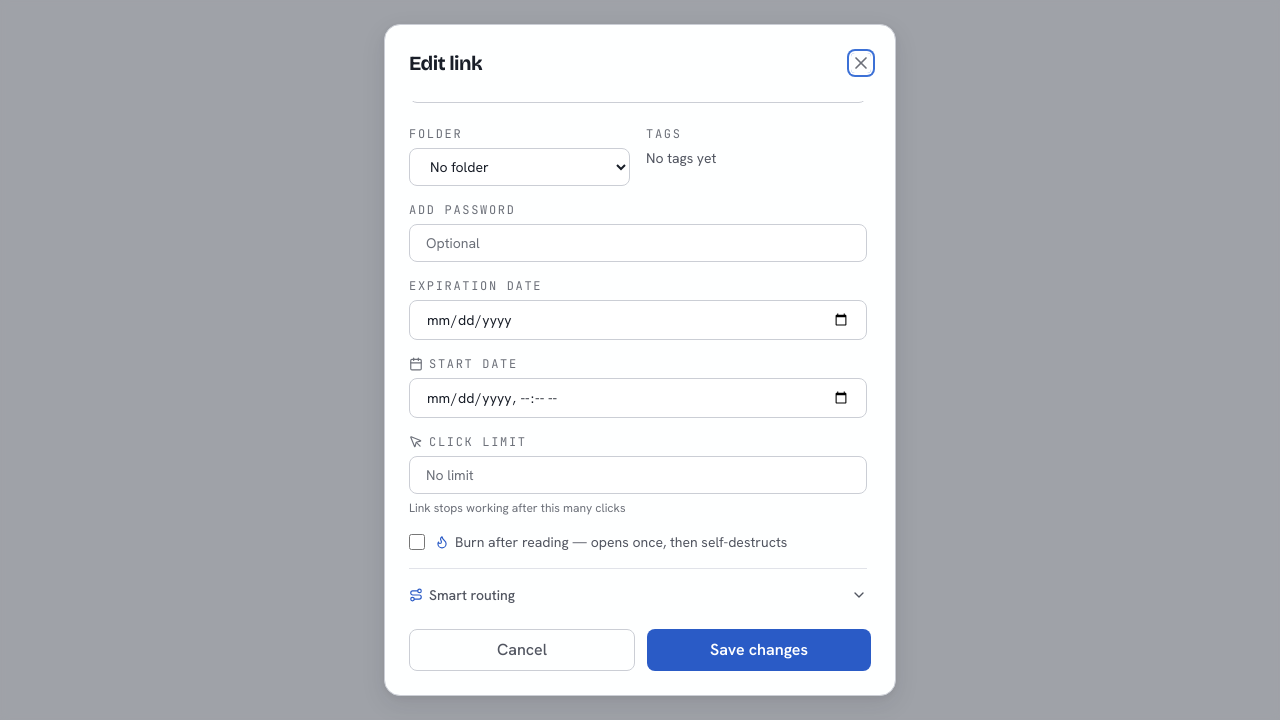
Test: EditModal routing rules: loading › does not send rules when Save is clicked before the stored rules arrived
The image size is (1280, 720).
(page scrolled)
Step 1. Click the checkbox labelled "Burn after reading — opens once, then self-destructs" → (417, 542), box [409, 534, 425, 550]
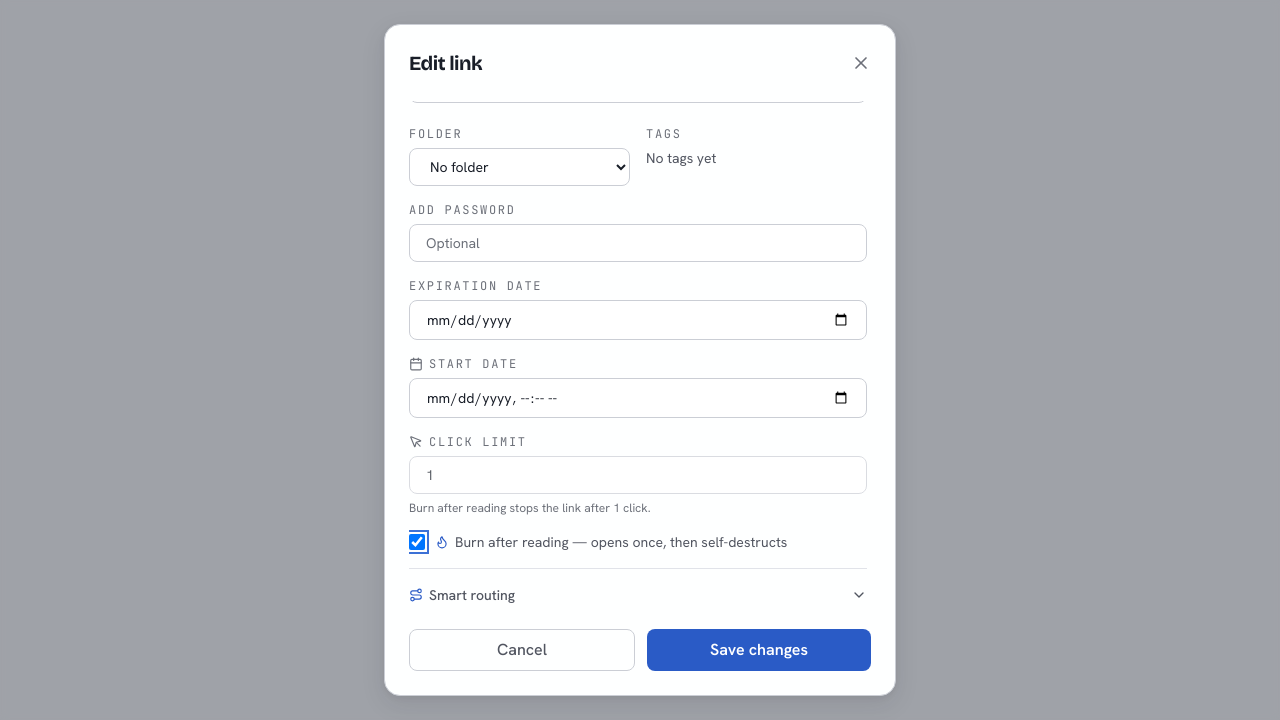
Step 2. Click the button "Save changes" → (759, 650), box [647, 629, 871, 671]
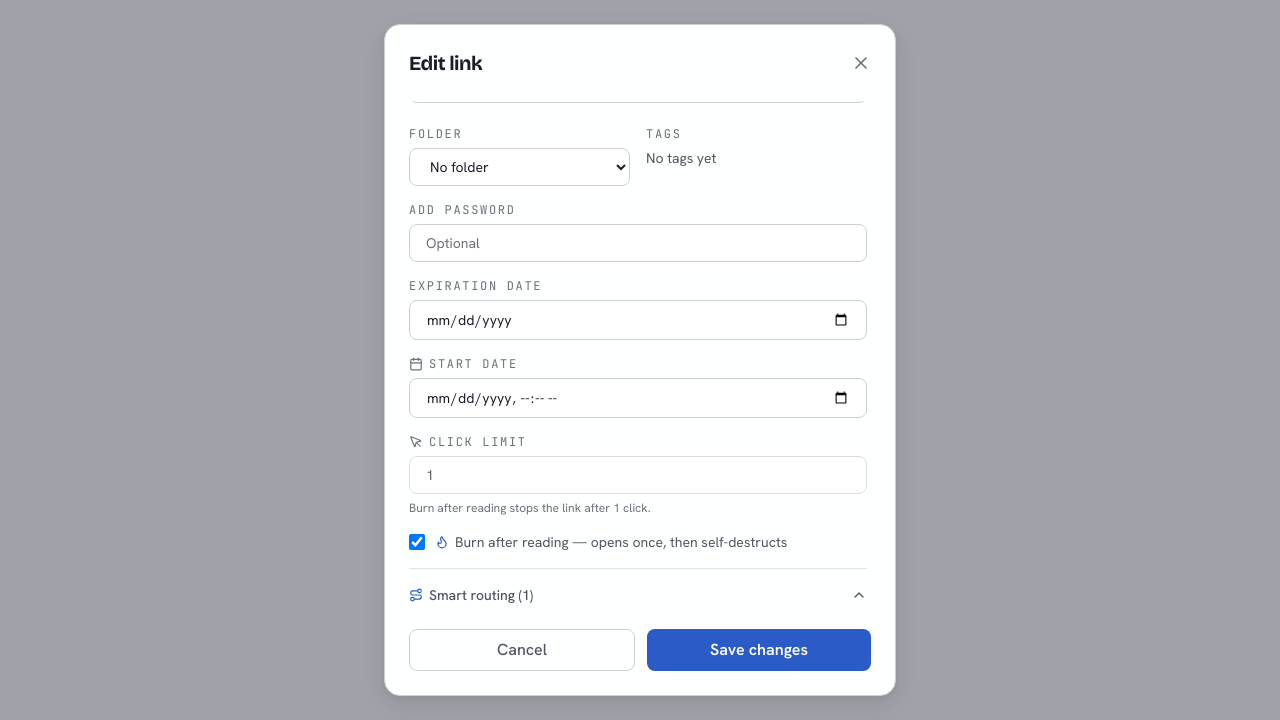
Result: the text "Smart routing (1)" is shown at [409, 585, 533, 605]
